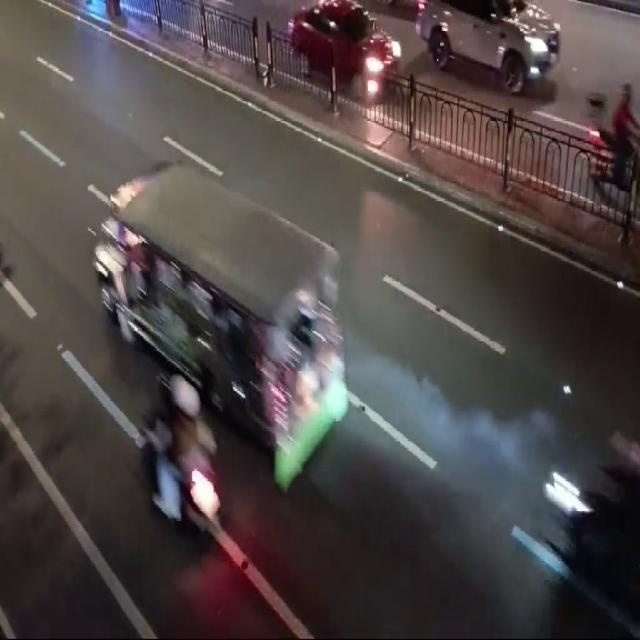car: (418, 0, 554, 92), (286, 5, 403, 104)
jeepney: (96, 163, 345, 456)
motorcycle: (139, 400, 213, 536), (583, 81, 640, 191)
